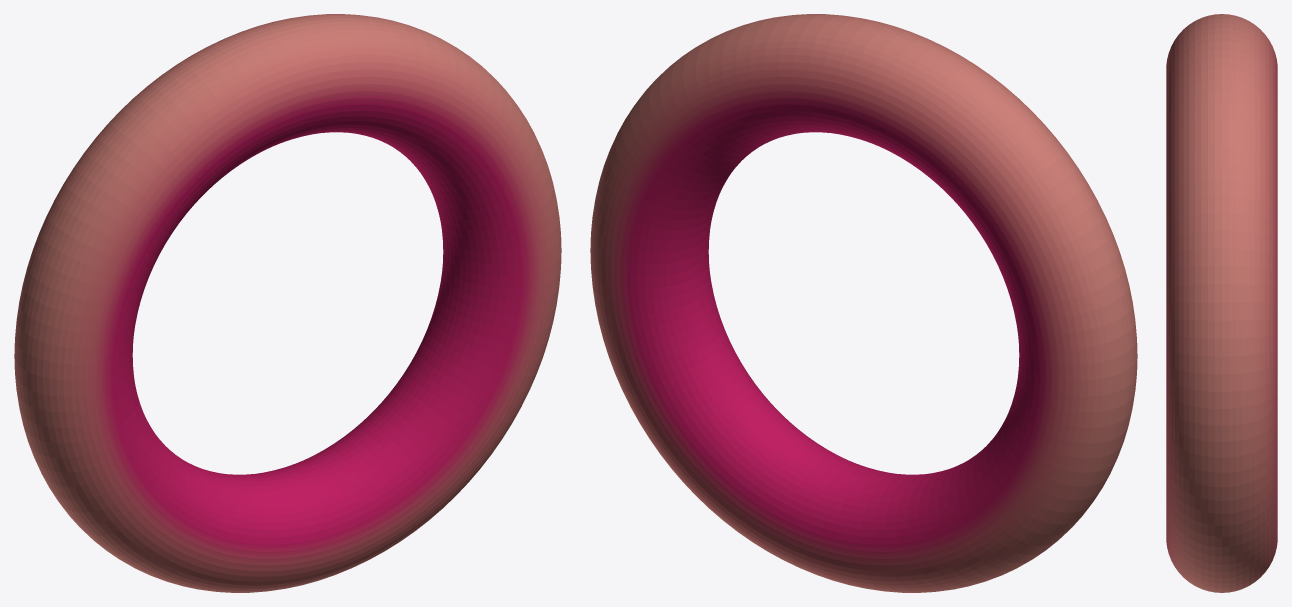
3 renders of one model, left to right at view 1: azimuth 30°, elevation 25°; view 2: azimuth 150°, elevation 25°; view 3: azimuth 270°, elevation 25°, orthographic. The views are drawn at different scales.
Parts seen in each view (by area): view 1: world; view 2: world; view 3: world.
Boxes of the visible parts, x1,y1,x2,y2 form: world: [14, 14, 561, 592]; world: [590, 14, 1137, 592]; world: [1166, 14, 1277, 592].
Bounding box in the file's own units: 33.87 × 33.87 × 6.52.
